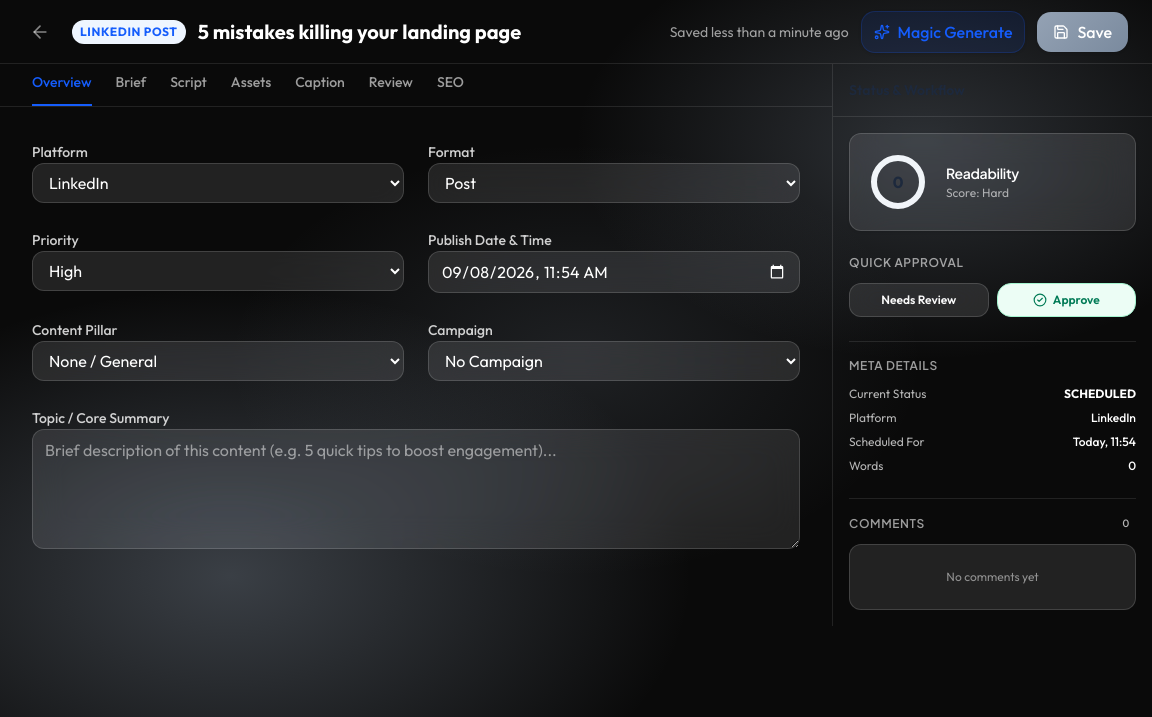
Test: UI Pages and Components › renders ContentEditor and switches tabs
Expected: the button "Overview" is shown, [32, 72, 92, 106]
Expected: the button "Script" is shown, [170, 72, 207, 106]
Note: Click Brief tab
Click the button "Brief". click: (131, 89)
box: [116, 72, 146, 106]
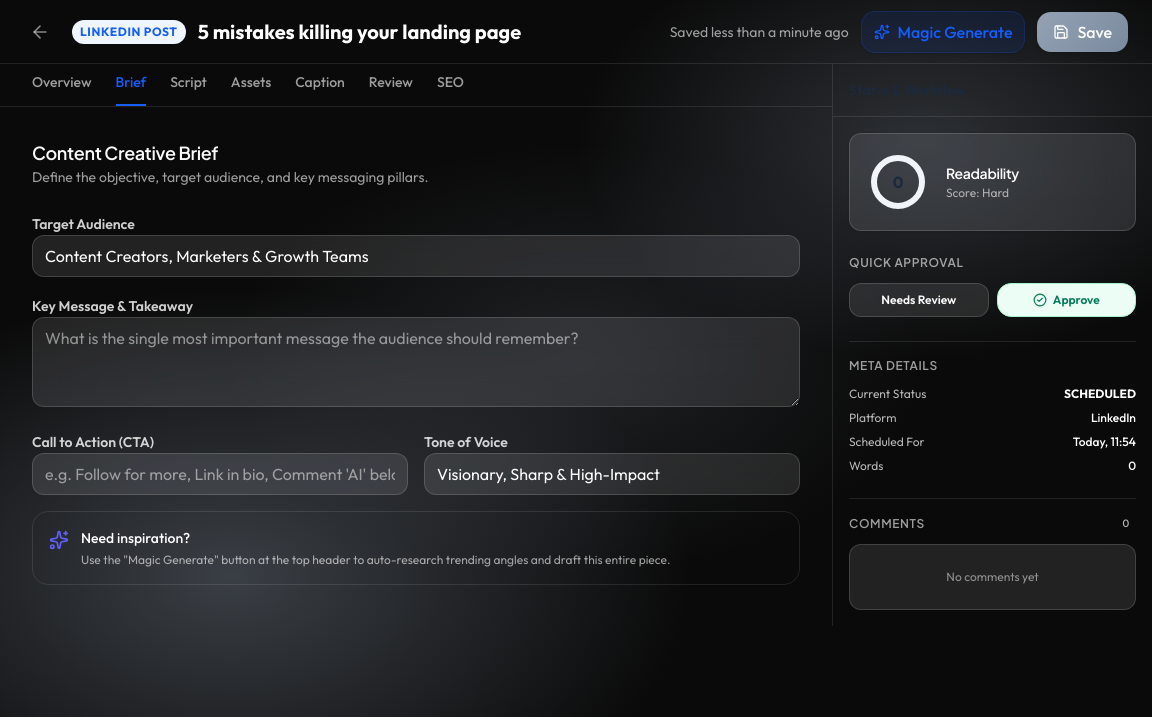
Now the heading "Content Creative Brief" is shown, box [32, 141, 218, 164]
Note: Click Script tab
Click the button "Script". click: (188, 89)
box: [170, 72, 207, 106]
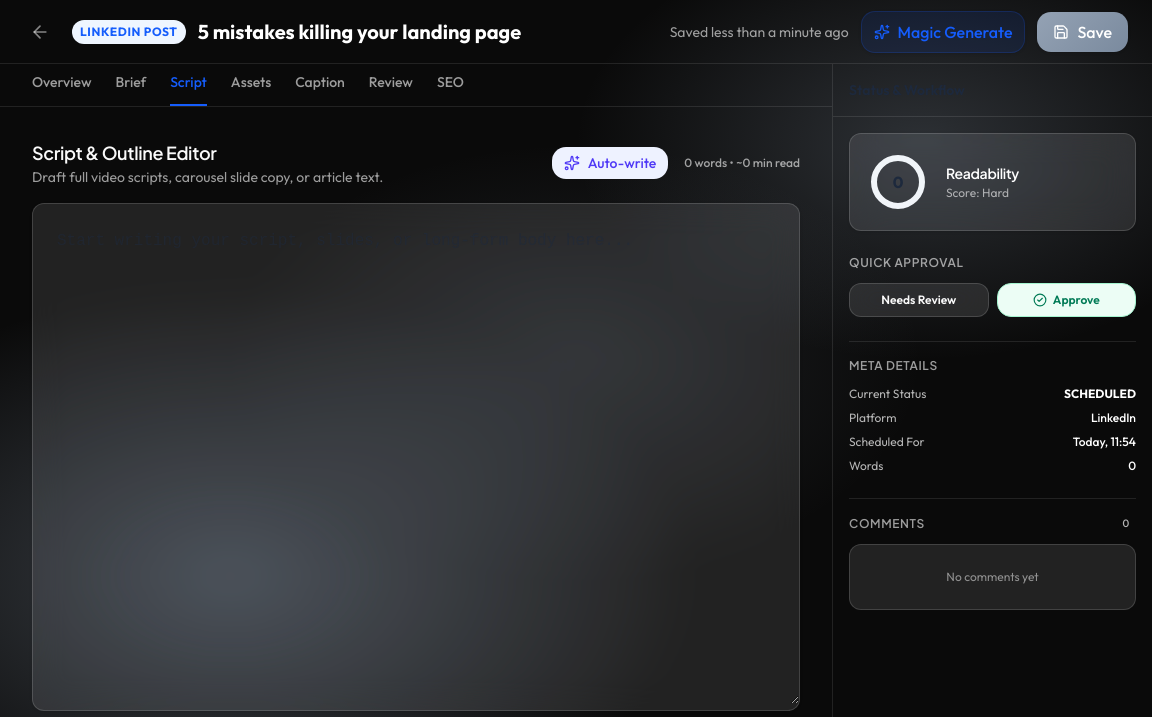
Now the heading "Script & Outline Editor" is shown, box [32, 141, 216, 164]
Note: Click Assets tab
Click the button "Assets". click: (251, 89)
box: [231, 72, 271, 106]
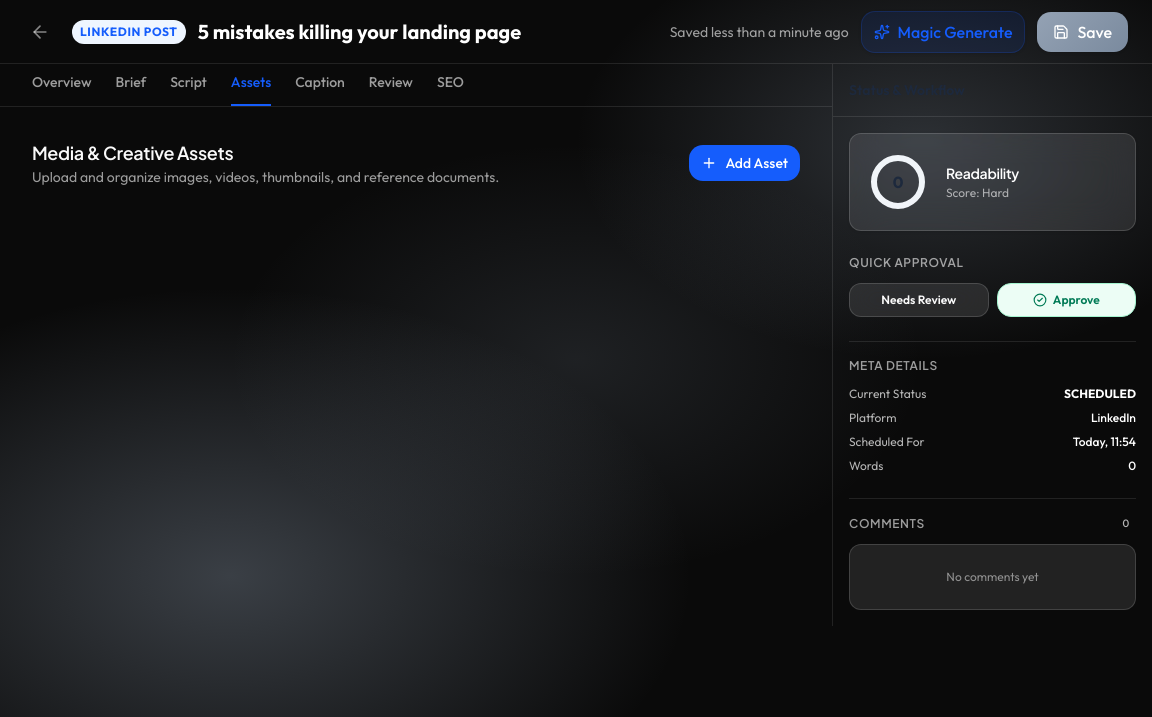
Now the heading "Media & Creative Assets" is shown, box [32, 141, 233, 164]
Note: Click Review tab
Click the button "Review". click: (391, 89)
box: [369, 72, 413, 106]
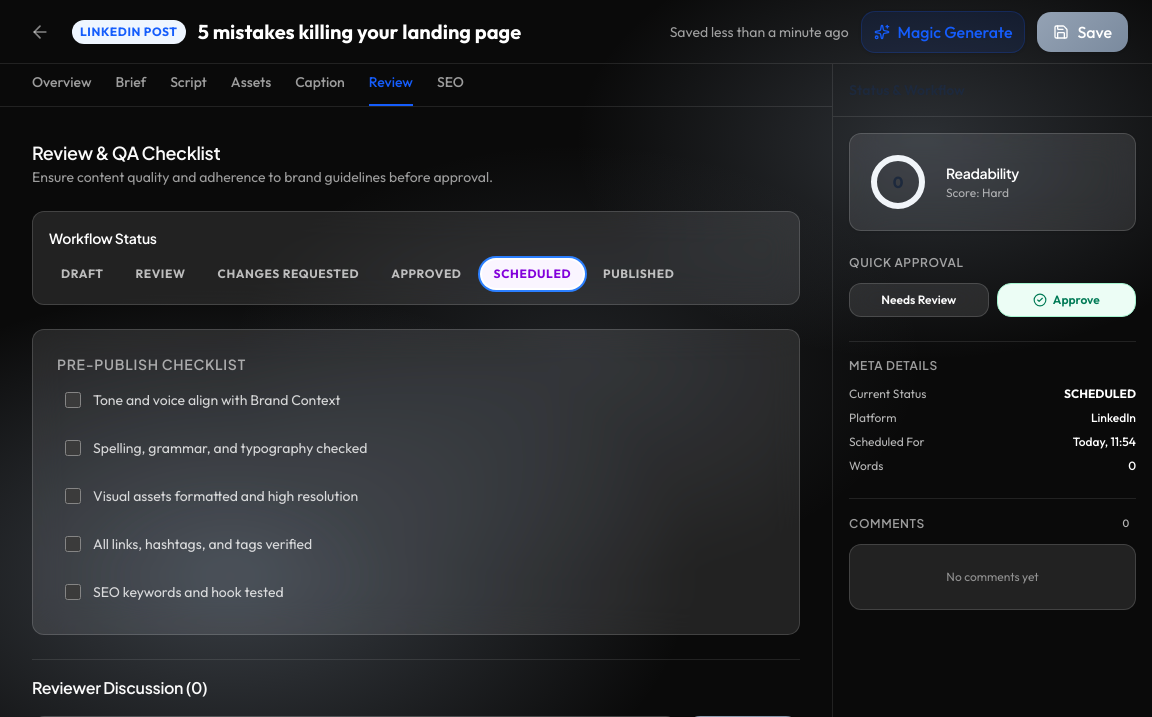
Now the heading "Review & QA Checklist" is shown, box [32, 141, 220, 164]
Note: Click SEO tab
Click the button "SEO". click: (450, 89)
box: [437, 72, 464, 106]
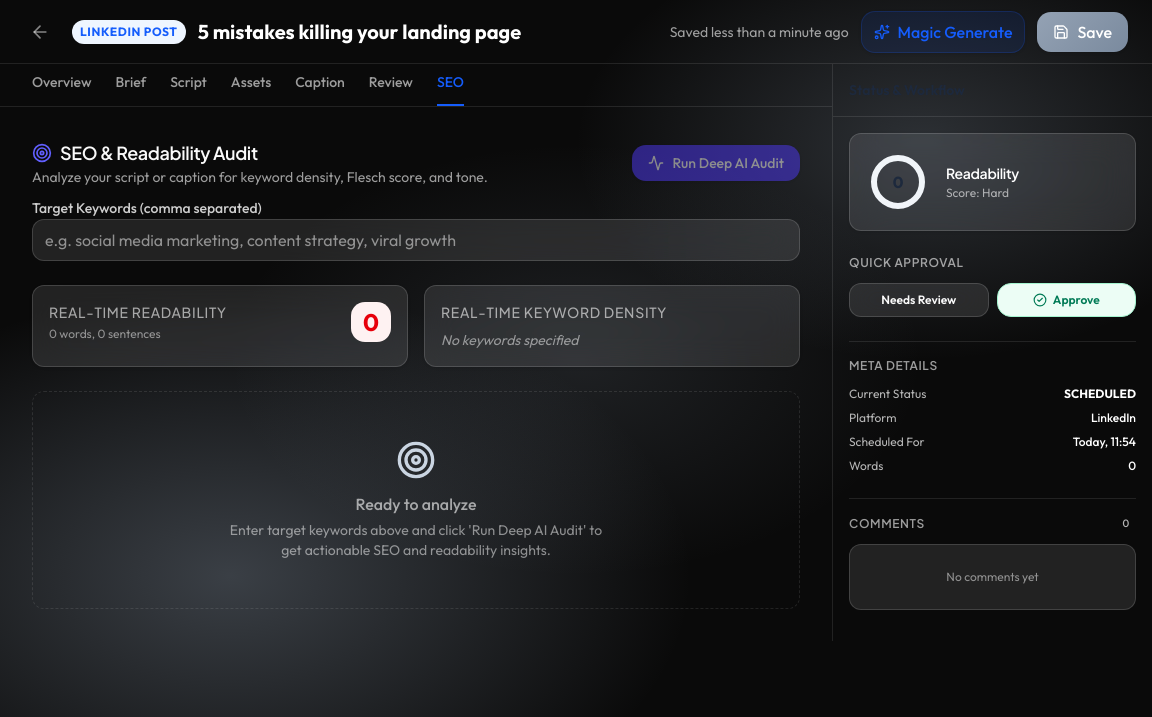
Now the heading "SEO & Readability Audit" is shown, box [32, 141, 258, 164]
